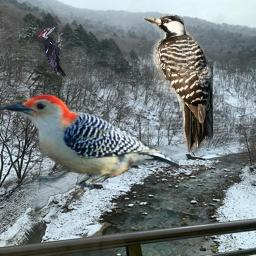Woodpecker: (0, 95, 179, 193), (143, 15, 213, 154), (38, 24, 67, 79)
